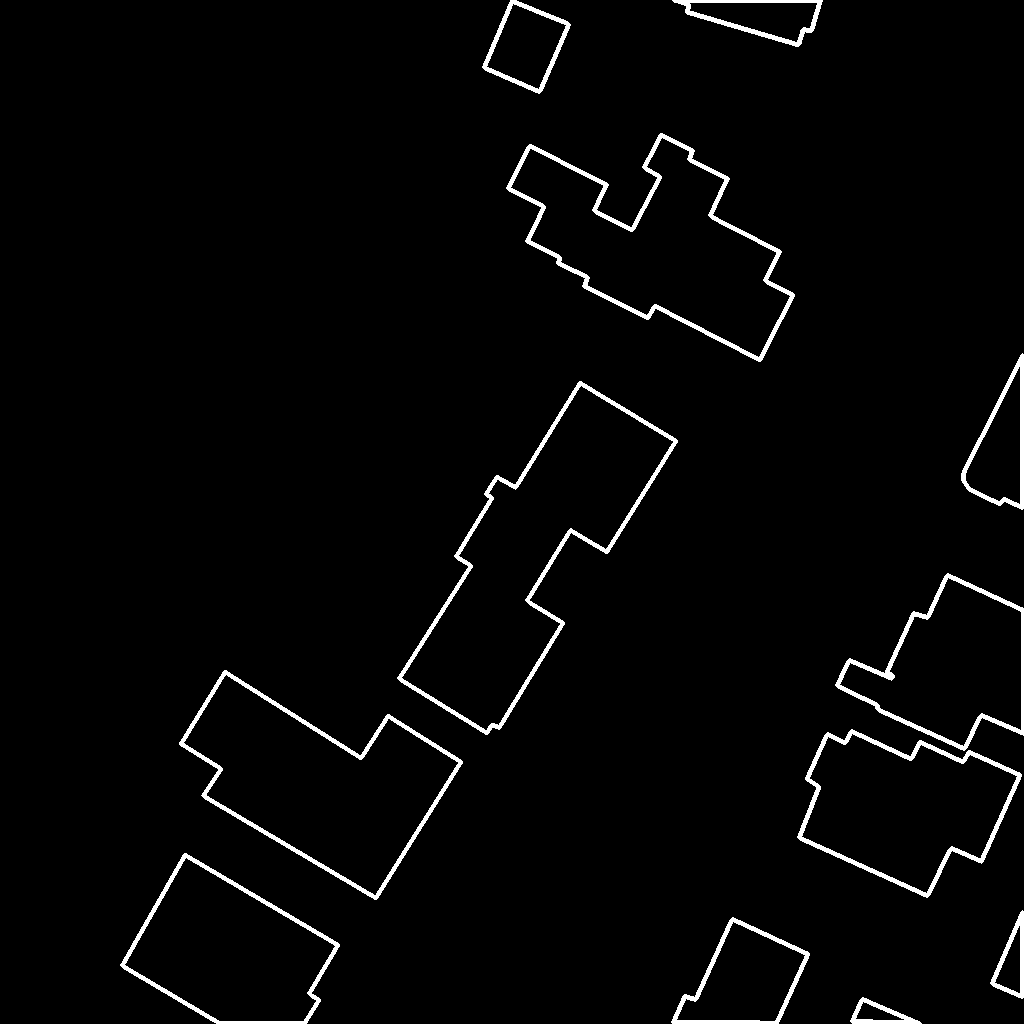building: (399, 383, 677, 734), (508, 135, 794, 361), (181, 672, 462, 899), (799, 731, 1021, 897), (122, 855, 339, 1024), (837, 575, 1024, 750), (673, 919, 809, 1024), (963, 355, 1024, 509), (484, 1, 570, 93), (673, 0, 822, 46), (992, 911, 1024, 998), (852, 999, 921, 1024)
